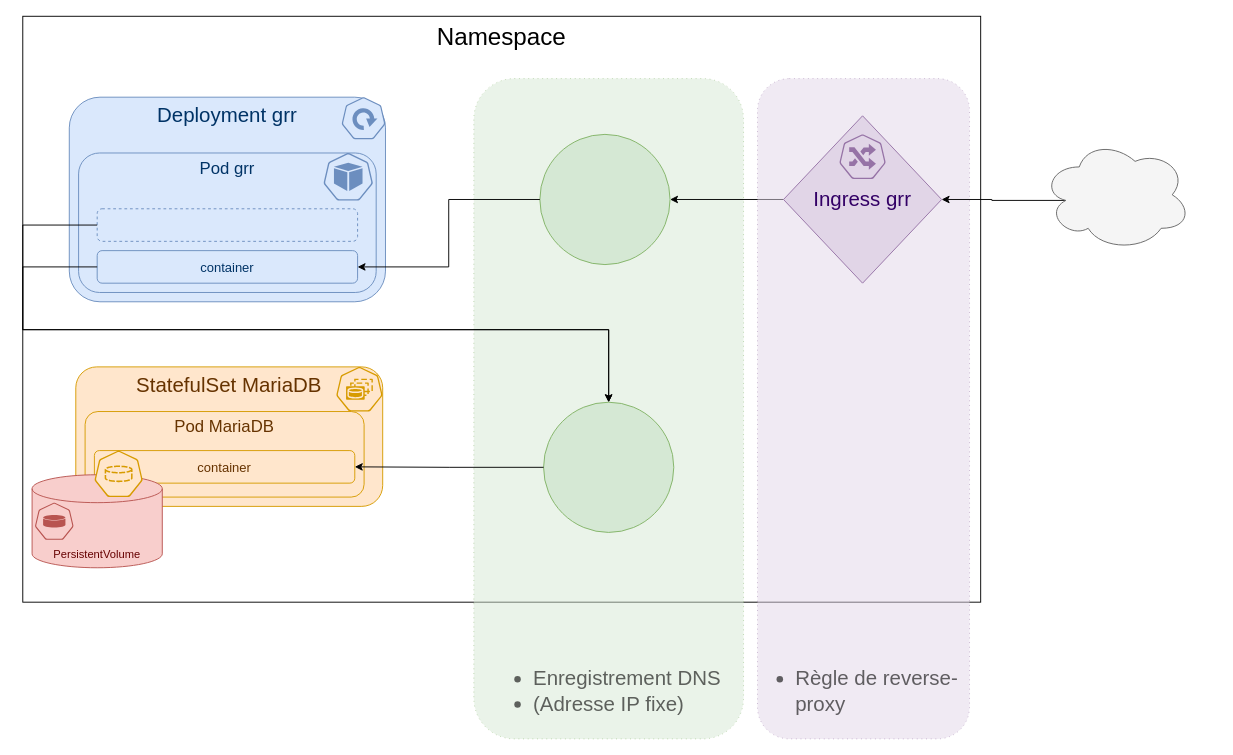
This 1233x755 diagram has some shape labels left out. Here are the shapes that lost their labels. From the top down, the centre of each, then its label:
At (x=604, y=199): "Service grr".
At (x=227, y=224): "initContainer".
At (x=118, y=473): "PVC".
At (x=608, y=466): "Service MariaDB".
